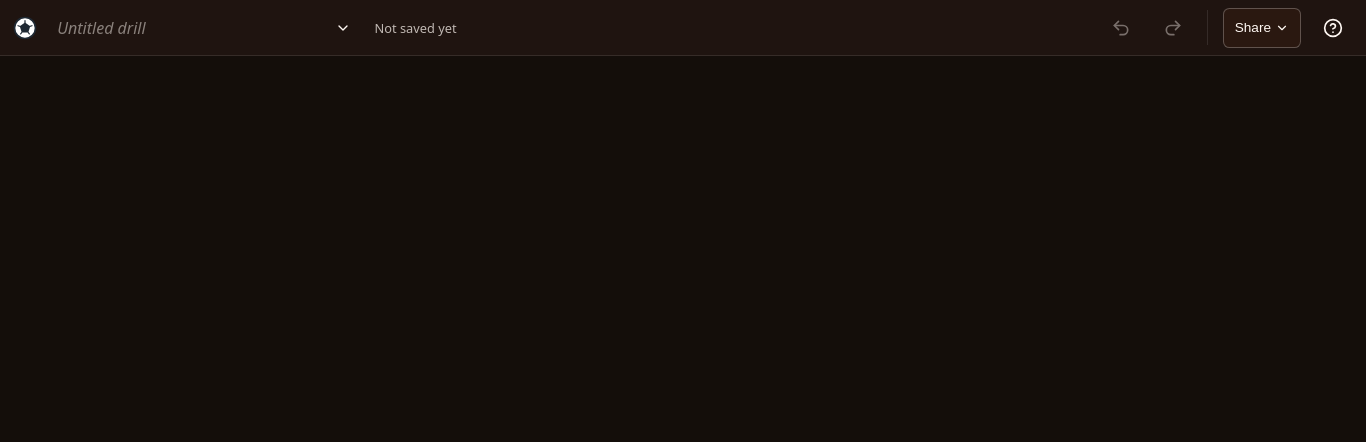
Scenario: the drill menu › gives way to the Share menu rather than sitting open beside it
This screenshot has width=1366, height=442.
Click the button named "Drill menu" at (343, 28), box 323,8 -> 363,48
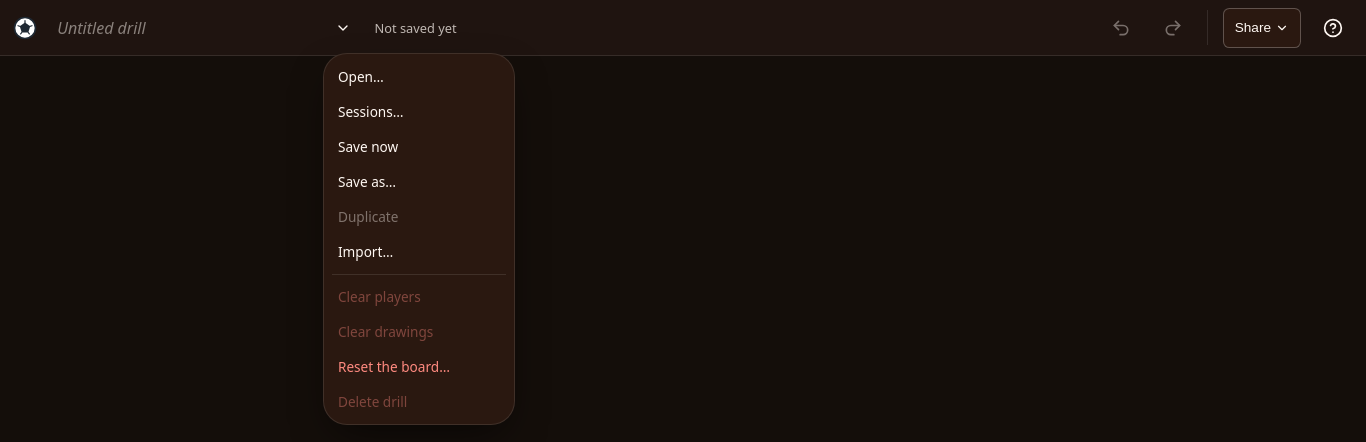
Click the button "Share" at (1262, 28), box 1222,8 -> 1301,48
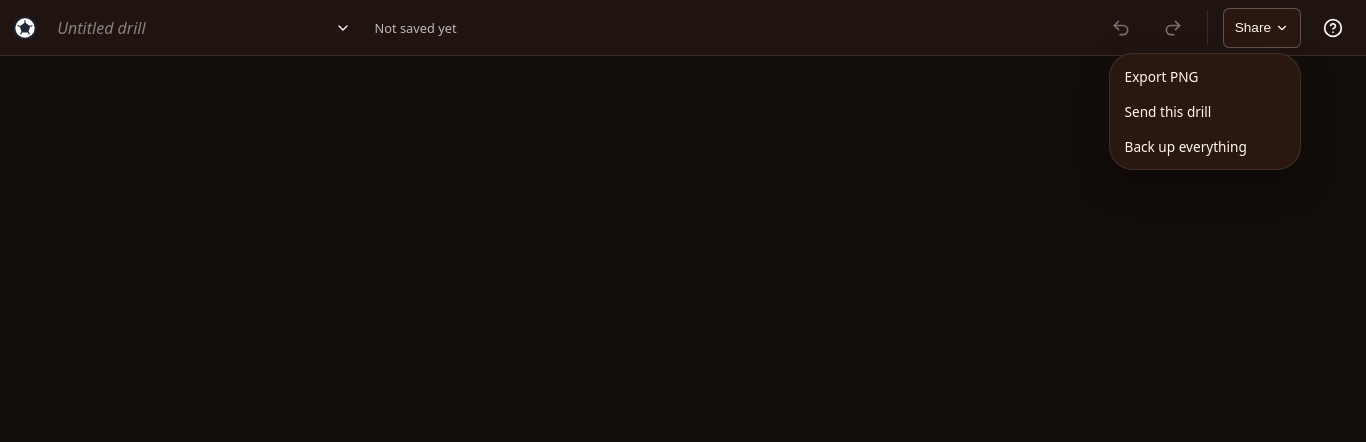
Check: the menu item "Export PNG" is shown, box 1115,59 -> 1295,94
